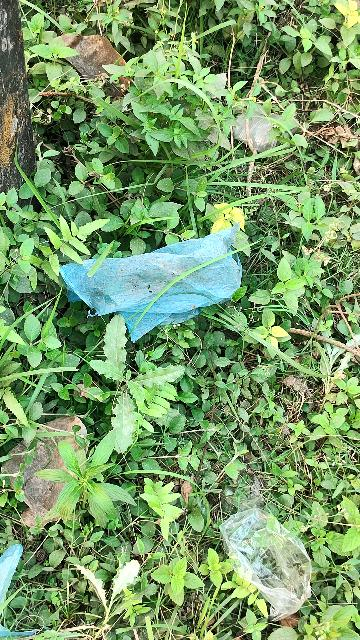polythene: (56, 237, 272, 346)
